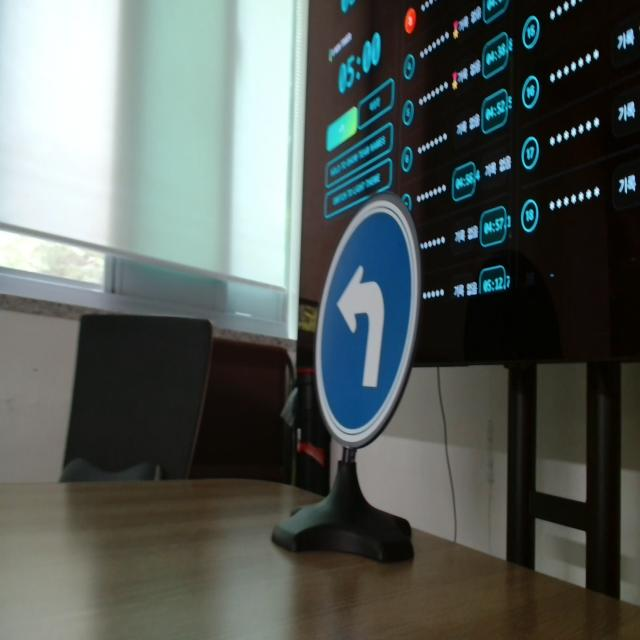left_direction: (312, 187, 436, 450)
